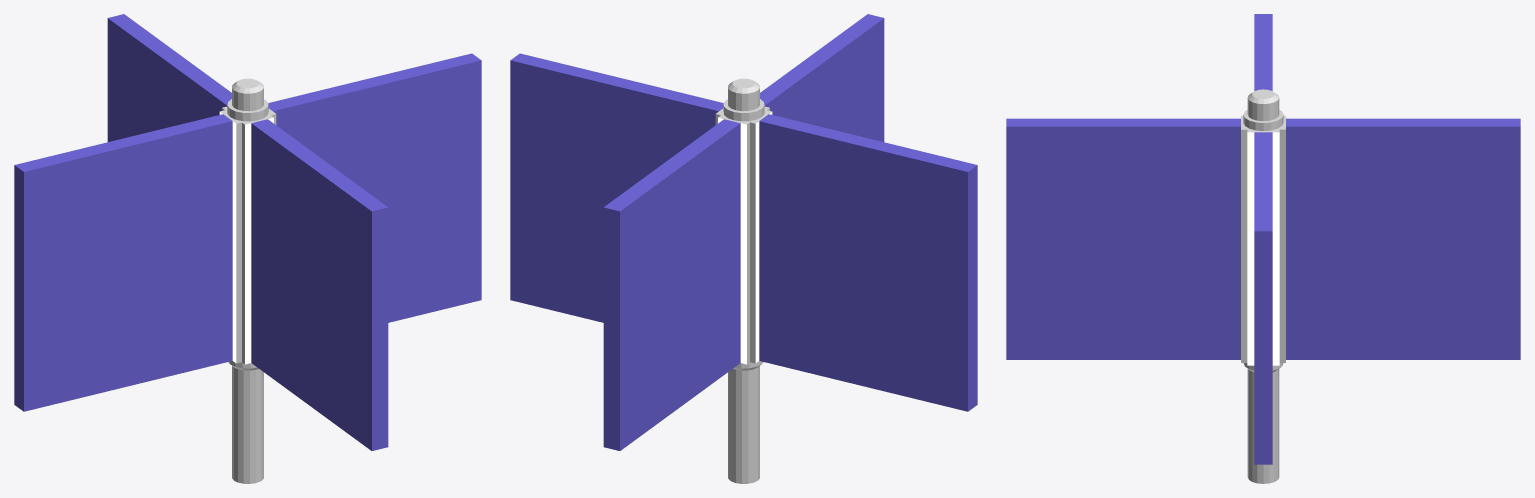
File: spinner_barrier.fbx
3 views of the same model, side by side, from view 1: azimuth 30°, elevation 25°; view 2: azimuth 150°, elevation 25°; view 3: azimuth 270°, elevation 25° (orthographic). The views are drawn at different scales.
Parts seen in each view (by area): view 1: Cube.002; view 2: Cube.002; view 3: Cube.002.
Part boxes in pixels (x1,y1,x2,y2): Cube.002: [14, 14, 481, 483]; Cube.002: [510, 14, 977, 483]; Cube.002: [1006, 14, 1520, 483].
Size of the model in its own units: 156 by 128 by 156.
